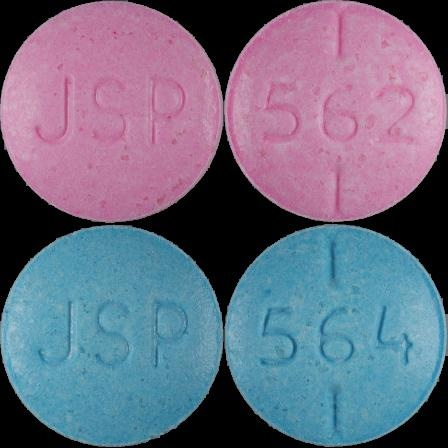51138-045: (0, 0, 224, 224)
